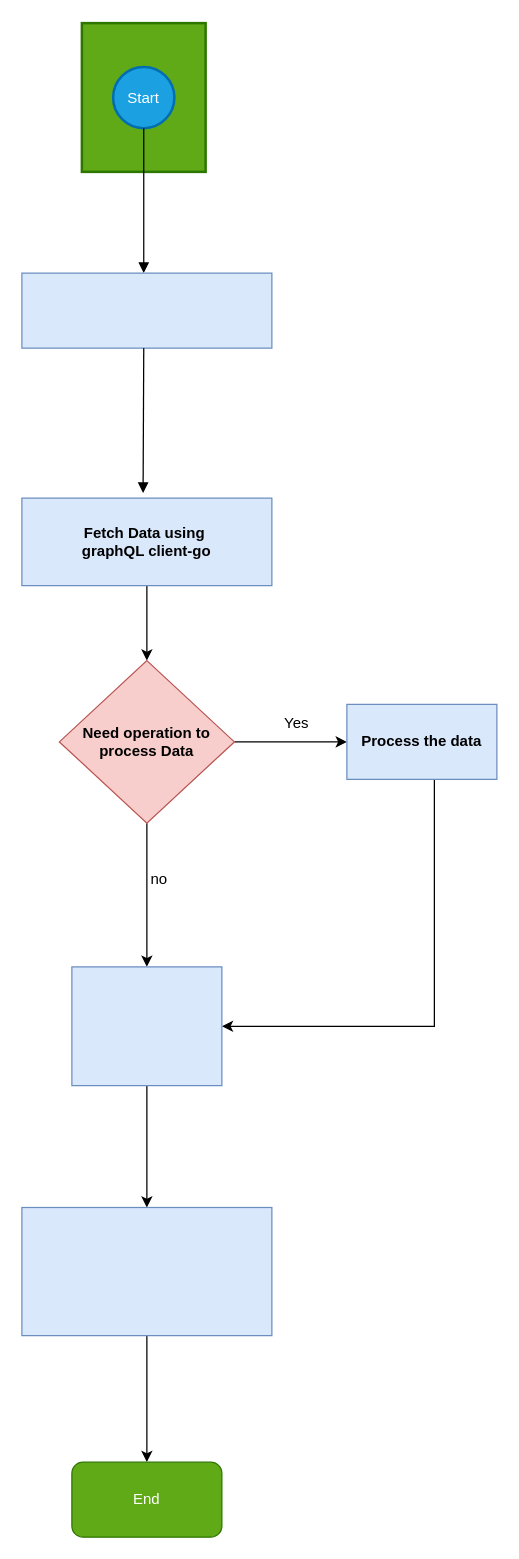
The diagram is 519 pixels wide and 1559 high, and some of its shapes have lost their labels. The shapes that lost their labels are listed below. From the top down, each one's centre as x and y in pixels, then its label:
the point at 146,310: GraphQL Query
the point at 146,1026: Expose metrics via HTTP
the point at 146,1271: Prometheus Scrapes to gather data
